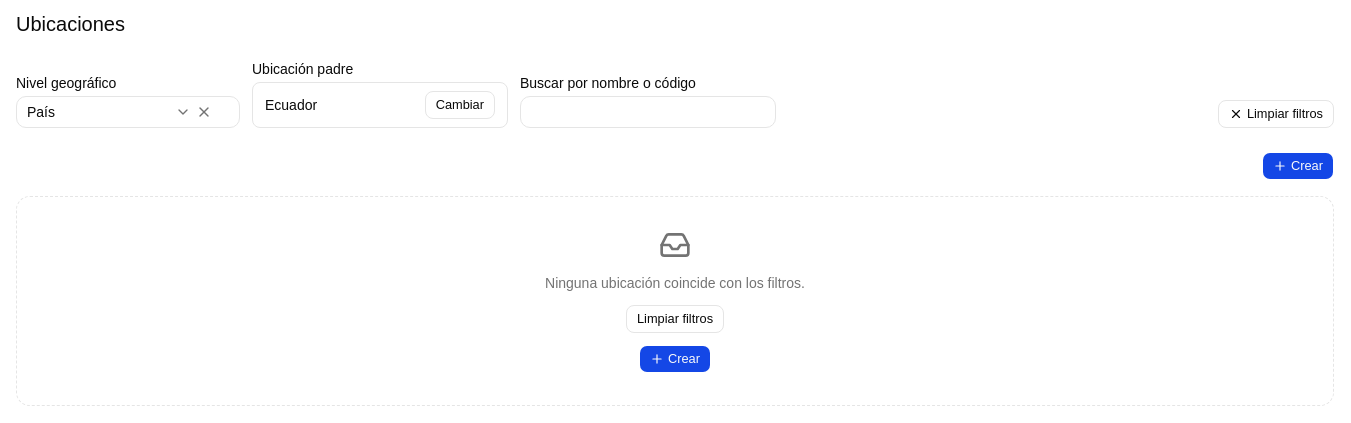
Test: GeoLocationListPage — botón único «Limpiar filtros» en el extremo derecho › «Limpiar filtros» (vacío filtrado) también limpia la cascada del picker de padre, no solo el valor final
Check: the text "Ecuador" is shown, box [265,95,317,115]
Check: the button "Cambiar" is shown, box [425,91,495,119]
Click the button "Limpiar filtros" in the row of "Ecuador": [1276, 114] box [1218,100,1334,128]
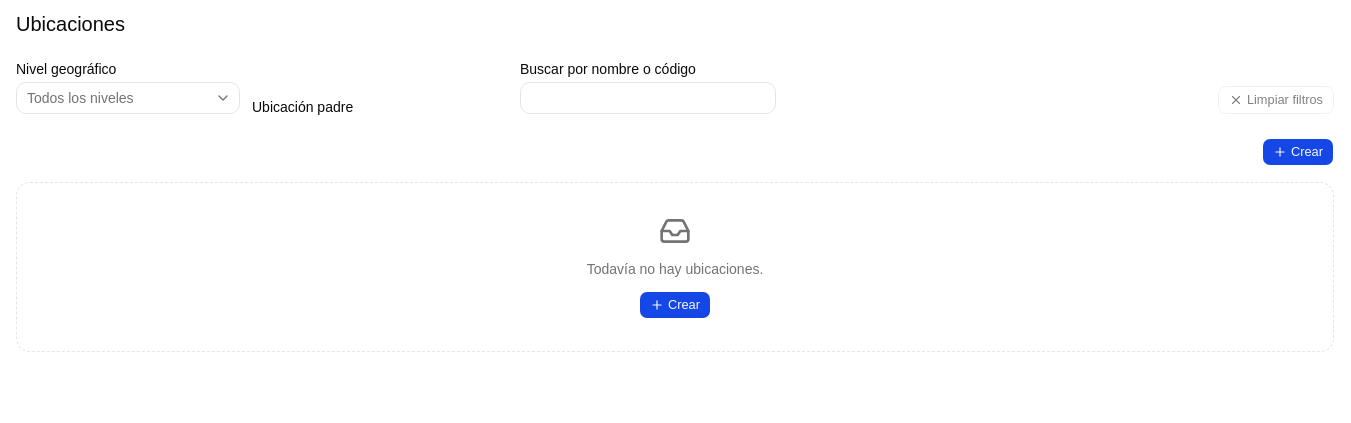
Check: the button "Cambiar" is gone
Check: the text "Ecuador" is gone
